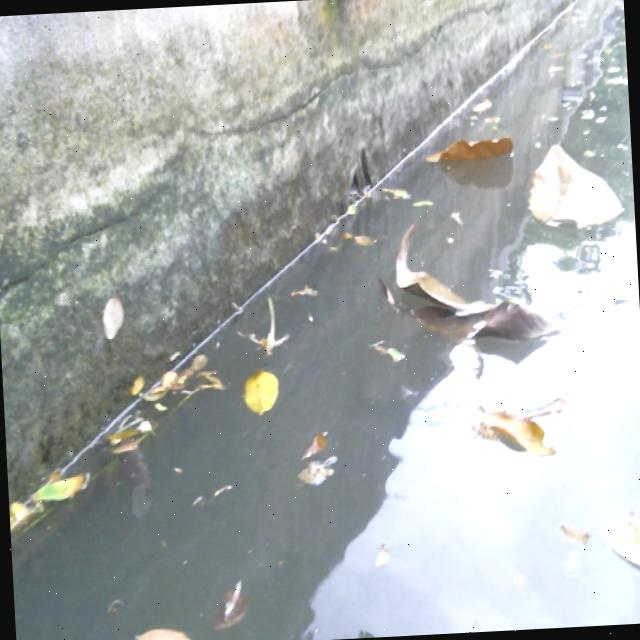Big-leaf: (374, 223, 570, 363), (507, 134, 635, 231), (457, 388, 573, 485), (428, 124, 509, 174)
Small-leaf: (223, 351, 288, 429), (593, 500, 640, 591), (29, 472, 90, 515), (554, 511, 596, 565), (213, 578, 247, 638), (284, 452, 341, 487), (119, 619, 209, 640), (287, 269, 331, 305), (376, 184, 415, 220), (469, 97, 512, 128), (296, 422, 330, 459), (340, 218, 380, 248), (9, 501, 31, 547)
